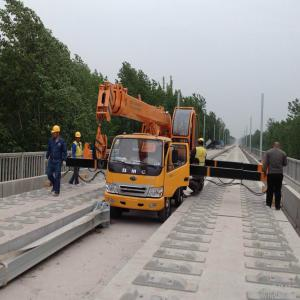none: (272, 142, 282, 152), (193, 158, 201, 167)
yellow: (52, 126, 61, 139), (75, 131, 82, 143), (198, 138, 204, 147)
